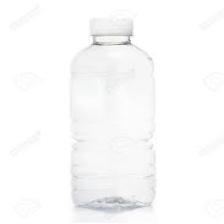plastic: (72, 17, 159, 214)
